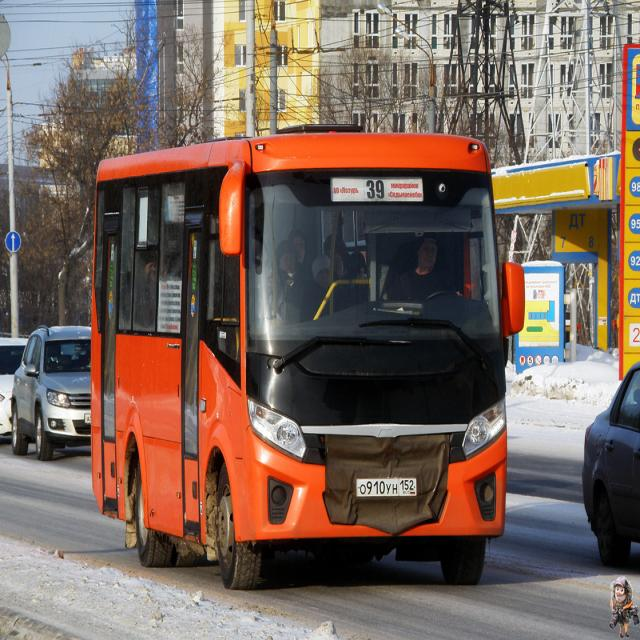number-of-bus: (365, 181, 387, 202)
